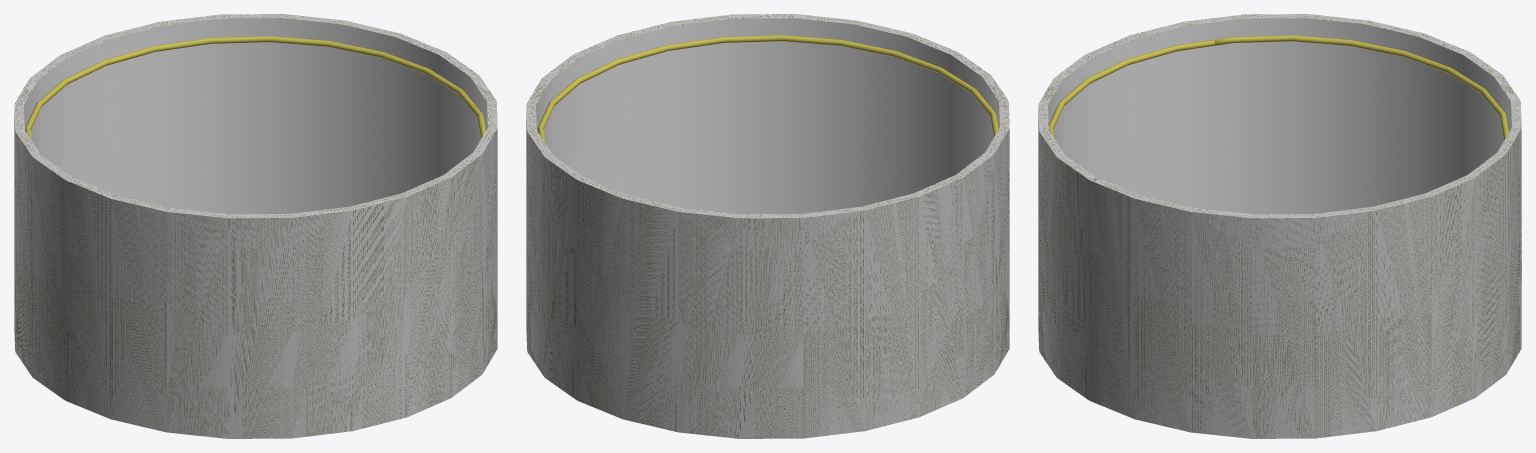
File: head.dae
3 renders of one model, left to right at view 1: azimuth 30°, elevation 25°; view 2: azimuth 150°, elevation 25°; view 3: azimuth 270°, elevation 25°, orthographic.
Visible parts, largest first — view 1: group_0, group_0_001, group_5; view 2: group_0, group_0_001, group_5; view 3: group_0, group_0_001, group_5.
Part boxes in pixels (bbox=[...]): group_0: bbox=[14, 14, 497, 438]; group_0_001: bbox=[24, 18, 487, 214]; group_5: bbox=[25, 36, 485, 141]; group_0: bbox=[526, 14, 1009, 438]; group_0_001: bbox=[536, 18, 999, 214]; group_5: bbox=[537, 35, 998, 143]; group_0: bbox=[1038, 14, 1521, 438]; group_0_001: bbox=[1048, 18, 1511, 214]; group_5: bbox=[1048, 35, 1508, 140].
Size of the model in its own units: 0.298 by 0.298 by 0.15.
